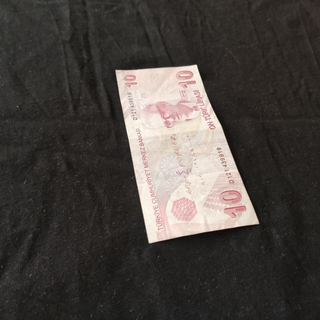10TLBack: (114, 63, 261, 244)
